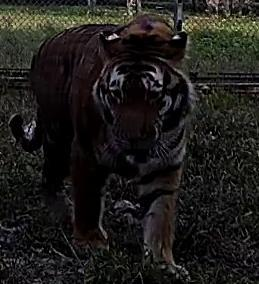tiger: (10, 13, 195, 272)
